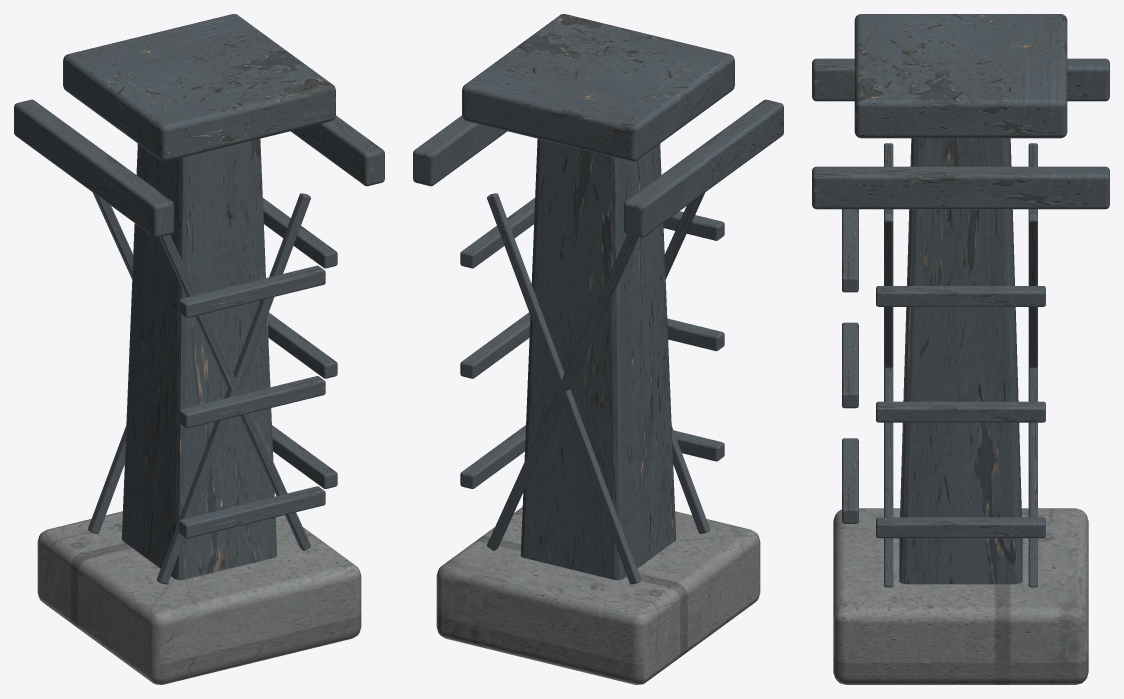
Rendered from bridge_support.glb.
3 views of the same model, side by side, from view 1: azimuth 30°, elevation 25°; view 2: azimuth 150°, elevation 25°; view 3: azimuth 270°, elevation 25° (orthographic). The views are drawn at different scales.
Parts seen in each view (by area): view 1: Pylon, PylonFoot, PylonCap, PylonBeam-10, PylonCrossA_17, PylonCrossB_17, PylonBeam10, PylonBracerB1, PylonBracerB2, PylonBracerB0, PylonBracer1, PylonBracer0 (+3 smaller); view 2: Pylon, PylonFoot, PylonCap, PylonBeam-10, PylonCrossA_-17, PylonCrossB_-17, PylonBeam10, PylonBracer1, PylonBracer0, PylonBracer2, PylonBracerB1, PylonCrossA_17 (+3 smaller); view 3: Pylon, PylonFoot, PylonCap, PylonBeam10, PylonBeam-10, PylonBracer0, PylonBracer1, PylonBracer2, PylonCrossB_-17, PylonCrossB_17, PylonBracerB1, PylonBracerB0 (+3 smaller).
Part boxes in pixels (box(x1,y1,x2,y2)): Pylon: box(121, 138, 277, 580); PylonFoot: box(37, 511, 361, 684); PylonCap: box(63, 14, 335, 161); PylonBeam-10: box(14, 99, 173, 237); PylonCrossA_17: box(157, 193, 310, 584); PylonCrossB_17: box(159, 234, 310, 550); PylonBeam10: box(291, 115, 384, 186); PylonBracerB1: box(178, 376, 325, 428); PylonBracerB2: box(178, 265, 325, 317); PylonBracerB0: box(178, 486, 325, 538); PylonBracer1: box(267, 312, 337, 378); PylonBracer0: box(272, 425, 337, 488); Pylon: box(520, 138, 676, 580); PylonFoot: box(436, 507, 760, 684); PylonCap: box(462, 14, 734, 161); PylonBeam-10: box(624, 99, 783, 237); PylonCrossA_-17: box(487, 193, 640, 584); PylonCrossB_-17: box(487, 234, 638, 550); PylonBeam10: box(413, 115, 506, 186); PylonBracer1: box(460, 312, 530, 378); PylonBracer0: box(460, 425, 525, 488); PylonBracer2: box(460, 198, 534, 268); PylonBracerB1: box(667, 318, 724, 351); PylonCrossA_17: box(671, 426, 709, 533); Pylon: box(899, 138, 1022, 584); PylonFoot: box(833, 508, 1088, 684); PylonCap: box(854, 14, 1067, 138); PylonBeam10: box(812, 166, 1109, 209); PylonBeam-10: box(812, 58, 1109, 101); PylonBracer0: box(876, 517, 1045, 538); PylonBracer1: box(876, 401, 1045, 422); PylonBracer2: box(876, 286, 1045, 306); PylonCrossB_-17: box(1028, 143, 1037, 587); PylonCrossB_17: box(884, 143, 893, 587); PylonBracerB1: box(842, 322, 858, 408); PylonBracerB0: box(842, 438, 858, 523).
Bounding box in the file's own units: 6.6 × 15 × 7.
2 materials, 2 textured.
